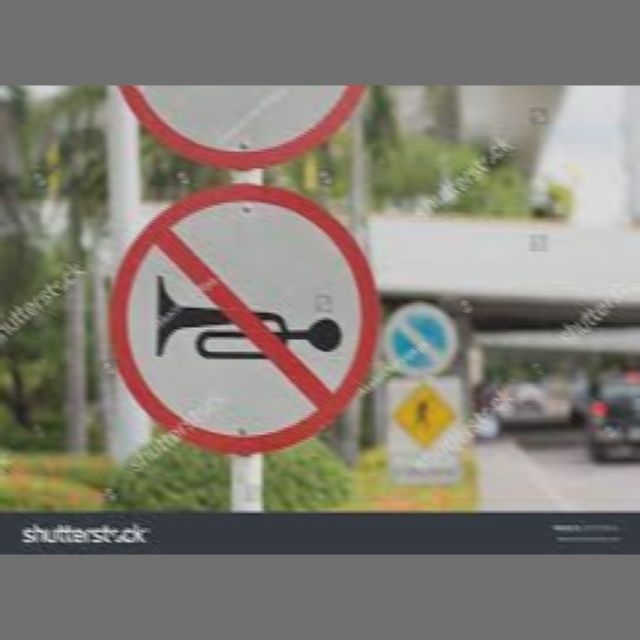Horn_Prohibited: (127, 189, 366, 446)
